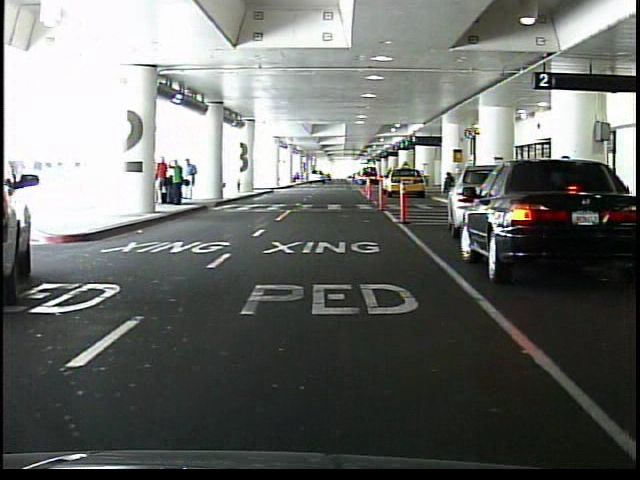person: (158, 154, 171, 206), (170, 159, 184, 206), (184, 158, 197, 201), (441, 172, 455, 194)
